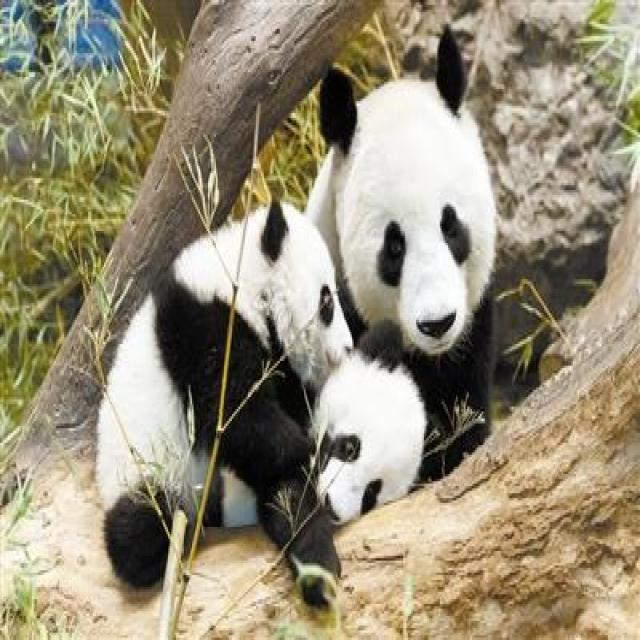panda: (91, 58, 529, 602)
